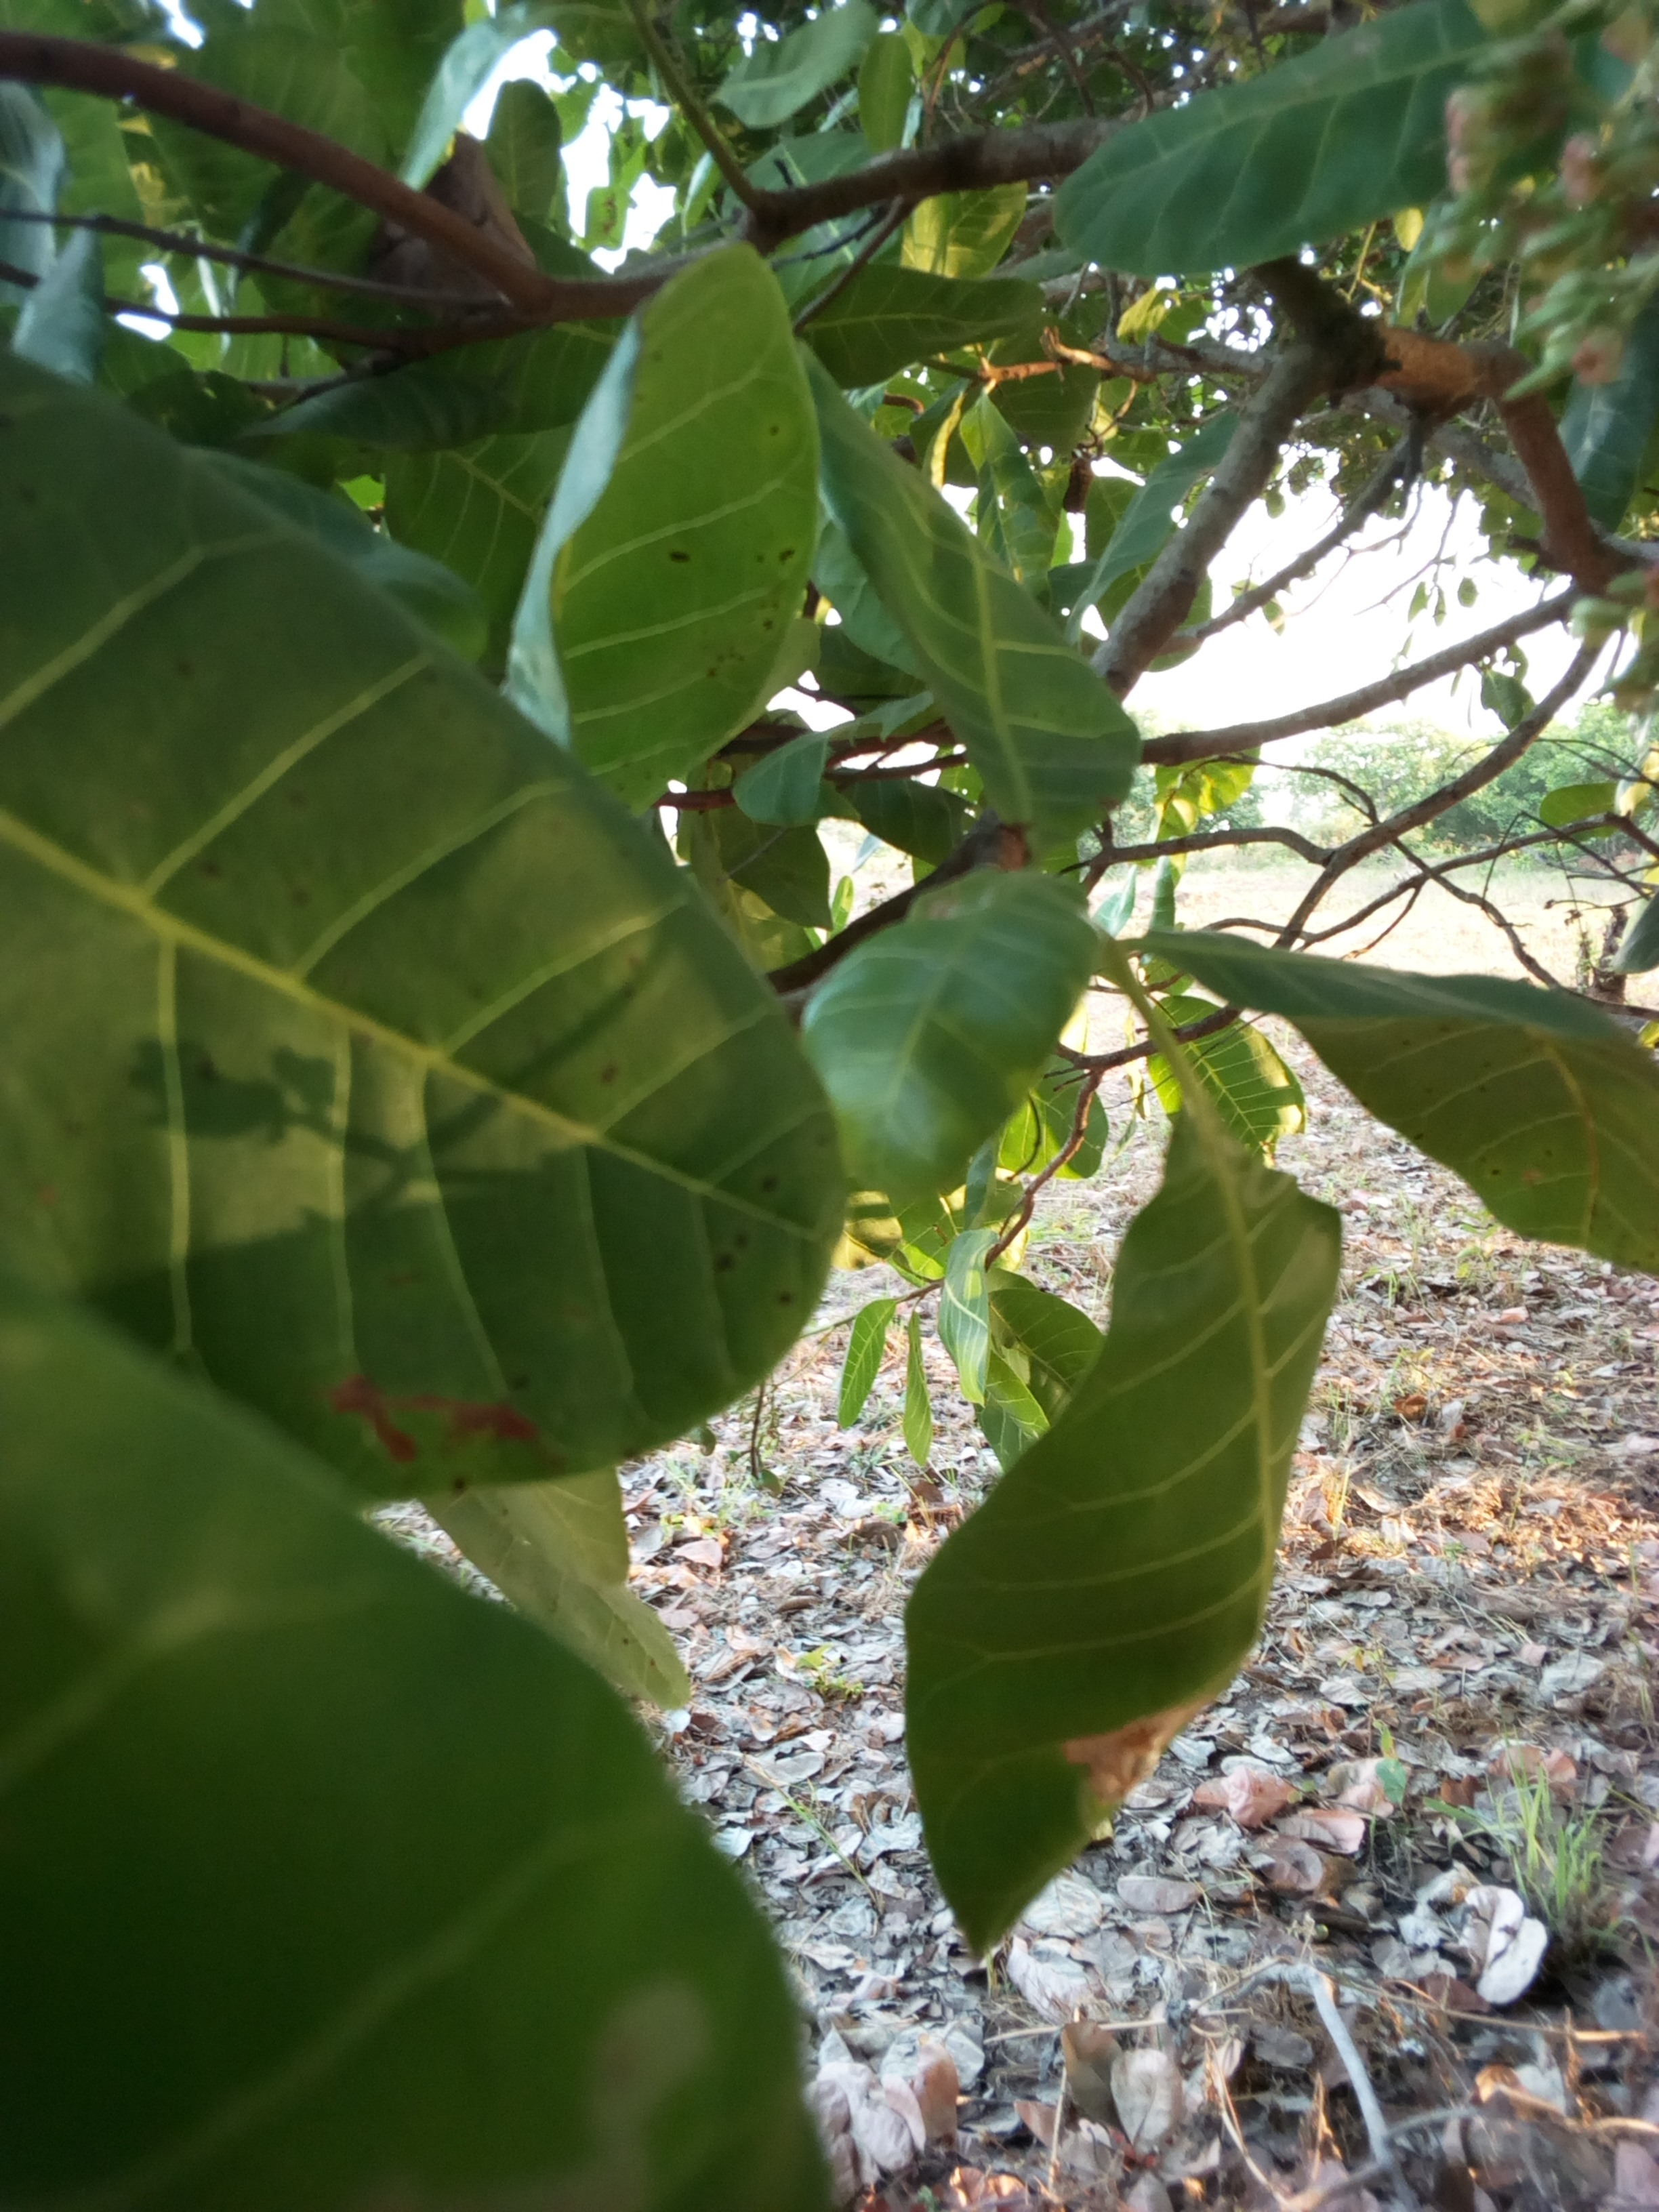Anthracnose: (12, 415, 840, 1489)
